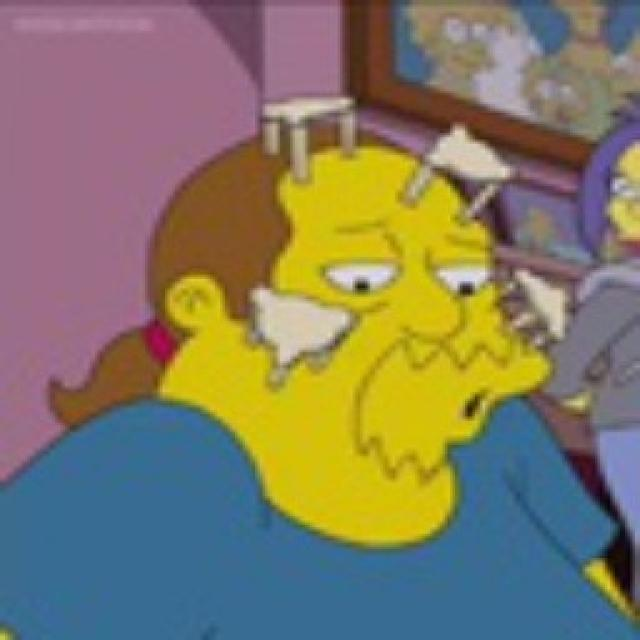Comic Book Guy: (116, 114, 549, 550)
